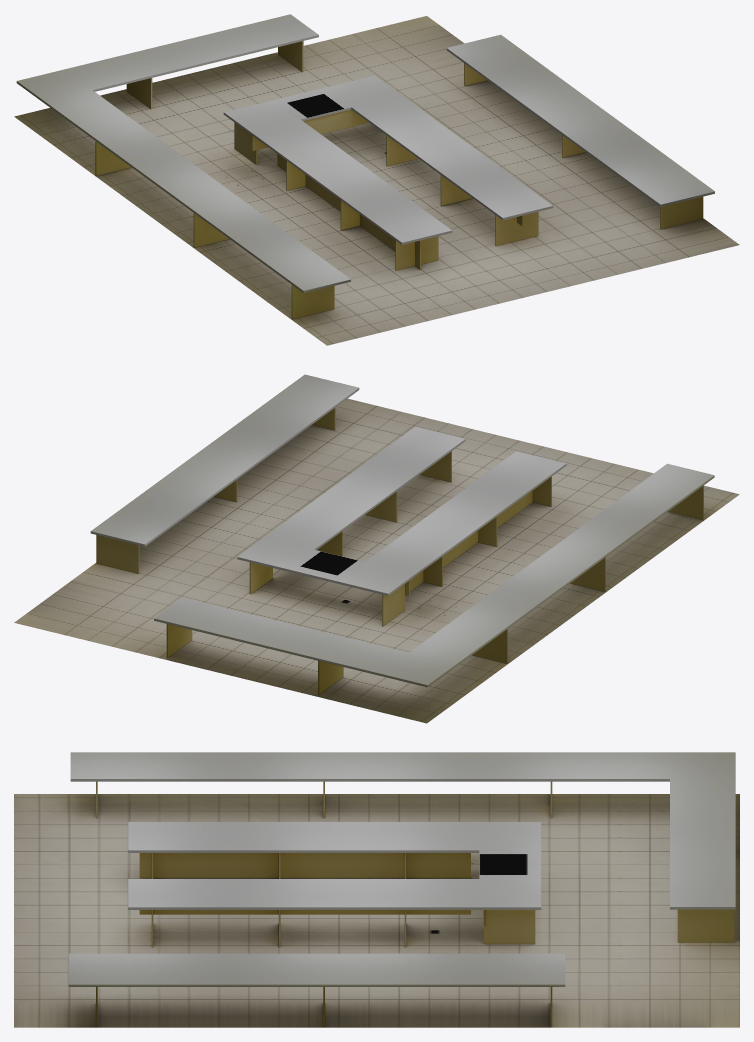
The model's file is CablecraftTableFloor.glb.
The picture shows the model from 3 angles, top to bottom: view 1: azimuth 30°, elevation 25°; view 2: azimuth 150°, elevation 25°; view 3: azimuth 270°, elevation 25°; orthographic projection. The views are drawn at different scales.
Visible parts, largest first — view 1: Floor_Baked, Table_Baked; view 2: Floor_Baked, Table_Baked; view 3: Floor_Baked, Table_Baked.
Part boxes in pixels (bbox=[...]): Floor_Baked: bbox=[14, 16, 739, 345]; Table_Baked: bbox=[16, 14, 714, 319]; Floor_Baked: bbox=[14, 398, 739, 723]; Table_Baked: bbox=[90, 374, 714, 694]; Floor_Baked: bbox=[14, 794, 739, 1027]; Table_Baked: bbox=[68, 752, 735, 1026].
Bounding box in the file's own units: 10.68 × 0.9061 × 14.02.
2 materials, 2 textured.
